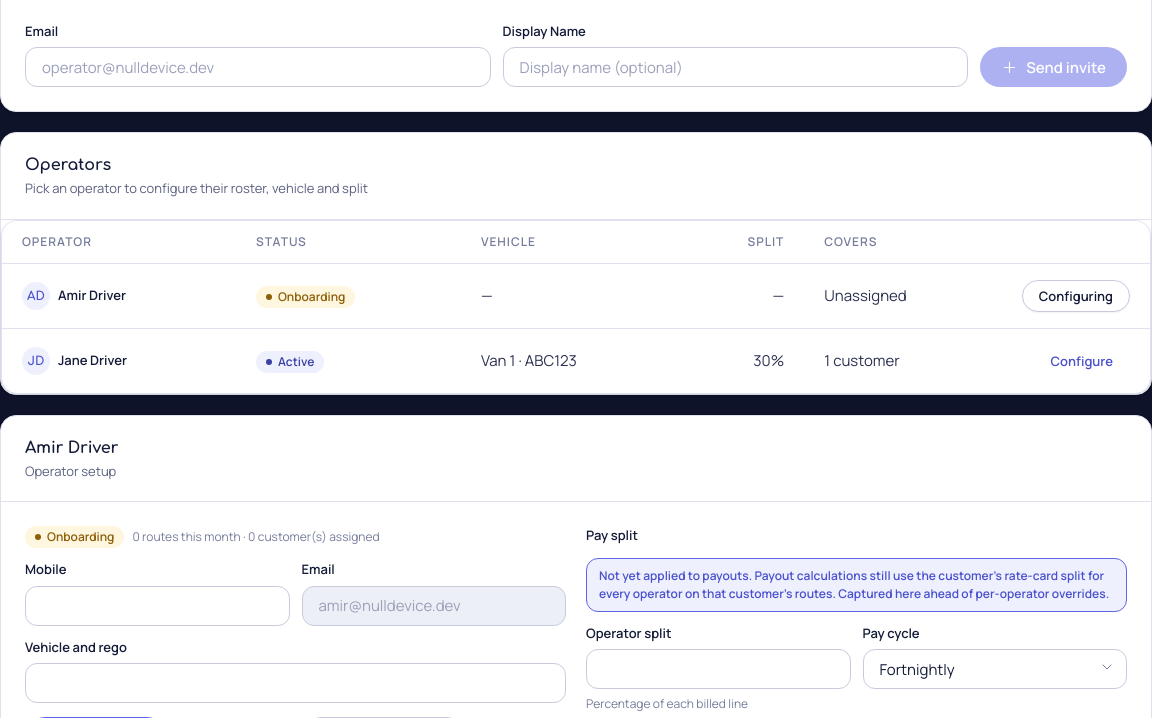
Test case: Administrator Operators page › shows a stored mobile in local form
(page scrolled)
Check: the text "Van 1 · ABC123" is shown, box [461, 329, 680, 393]
Click the button with aria-label "Configure Jane Driver" at (1082, 361), box [1034, 345, 1130, 377]
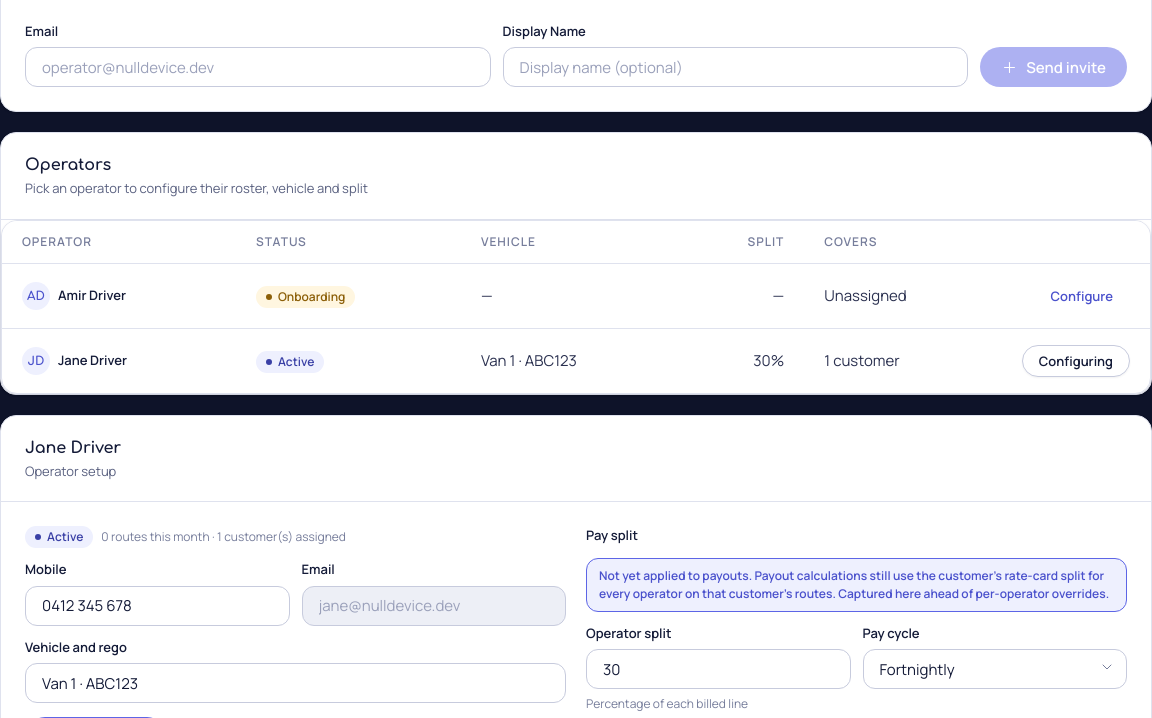
Check: the field labelled "Mobile" holds "0412 345 678", box [25, 586, 290, 626]
